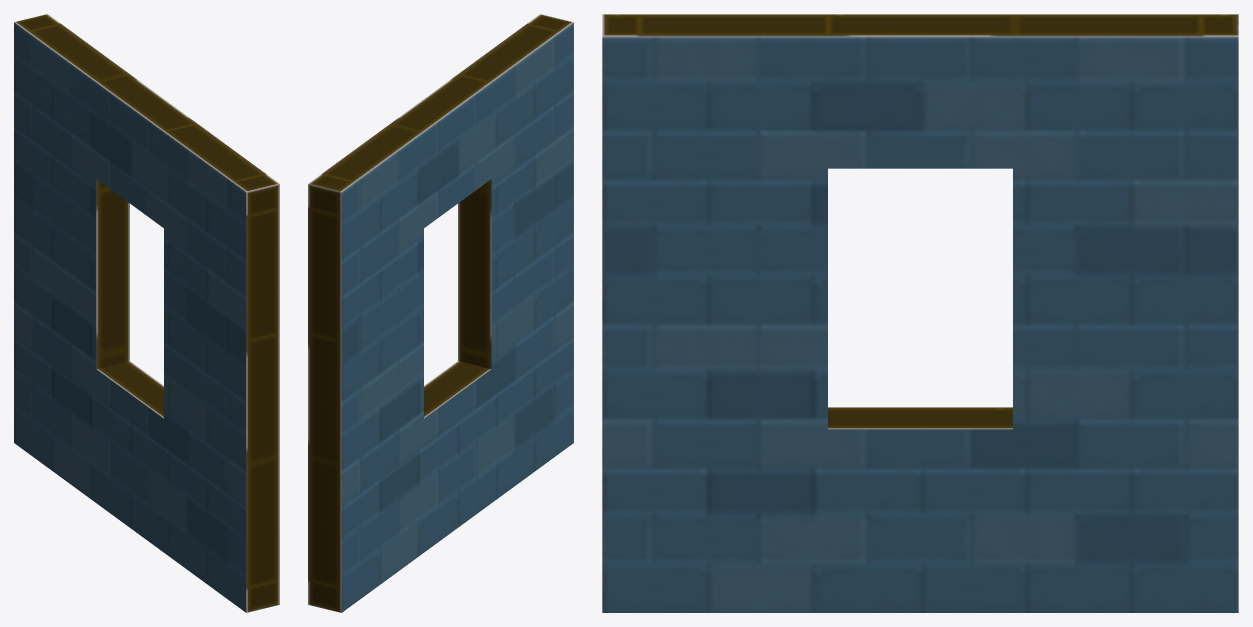
The model's file is Wallb_Window_14.fbx.
3 renders of one model, left to right at view 1: azimuth 30°, elevation 25°; view 2: azimuth 150°, elevation 25°; view 3: azimuth 270°, elevation 25°, orthographic. The views are drawn at different scales.
Visible parts, largest first — view 1: Wallb_Window_14; view 2: Wallb_Window_14; view 3: Wallb_Window_14.
Part boxes in pixels (x1=…): Wallb_Window_14: x1=14, y1=14, x2=279, y2=612; Wallb_Window_14: x1=308, y1=14, x2=573, y2=612; Wallb_Window_14: x1=602, y1=14, x2=1238, y2=612.
Bounding box in the file's own units: 50 × 600 × 600.
